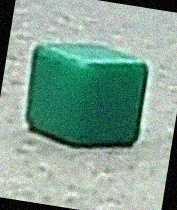green_cube: (20, 37, 164, 164)
